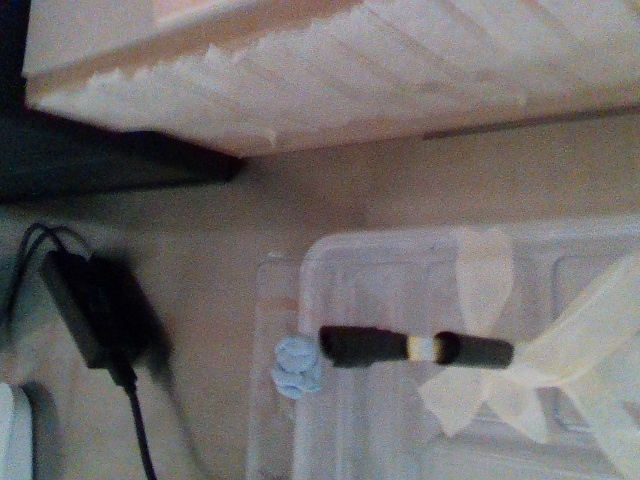test_strip: (316, 324, 439, 367)
